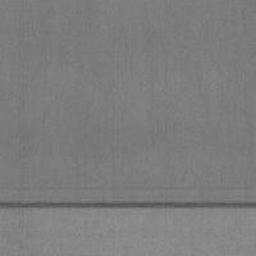Welding line: (0, 200, 256, 211)
